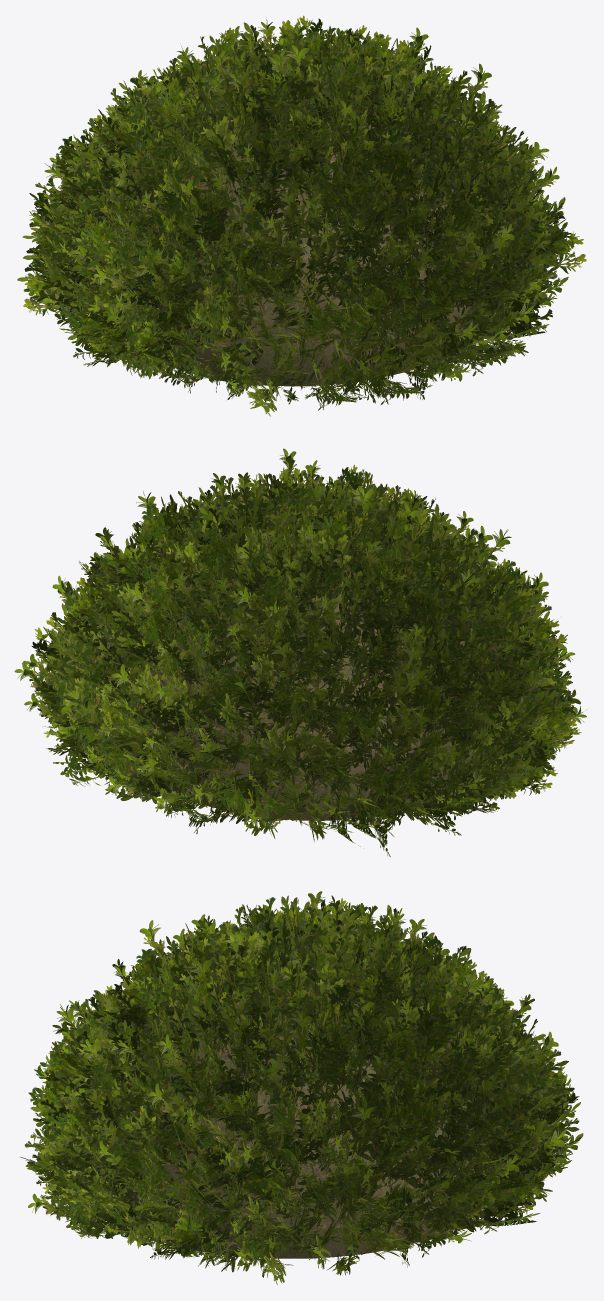
File: SM_Shrub_E.fbx
The picture shows the model from 3 angles, top to bottom: view 1: azimuth 30°, elevation 25°; view 2: azimuth 150°, elevation 25°; view 3: azimuth 270°, elevation 25°; orthographic projection. The views are drawn at different scales.
Parts seen in each view (by area): view 1: Shrub_E; view 2: Shrub_E; view 3: Shrub_E.
Part boxes in pixels (left/top/right/bottom): Shrub_E: left=17, top=15, right=586, bottom=416; Shrub_E: left=14, top=448, right=586, bottom=856; Shrub_E: left=20, top=891, right=583, bottom=1284.
Bounding box in the file's own units: 160 × 83.73 × 157.
